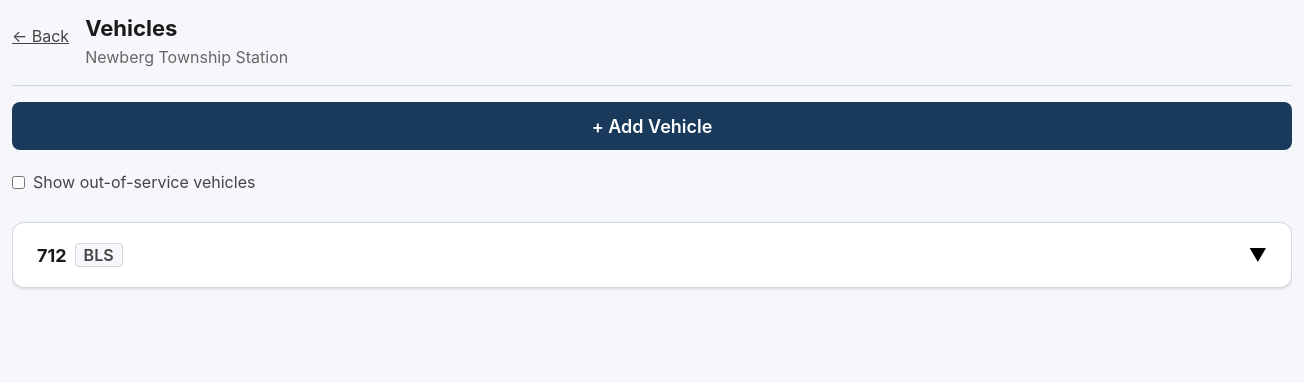
Test: VehiclesScreen — retired vehicles excluded (BUG-AD1) › still does not show a retired vehicle when "Show out-of-service vehicles" is checked
Expected: the text "540" is not shown
Click the checkbox labelled "Show out-of-service vehicles". click: click(18, 182)
box: [12,176,25,188]
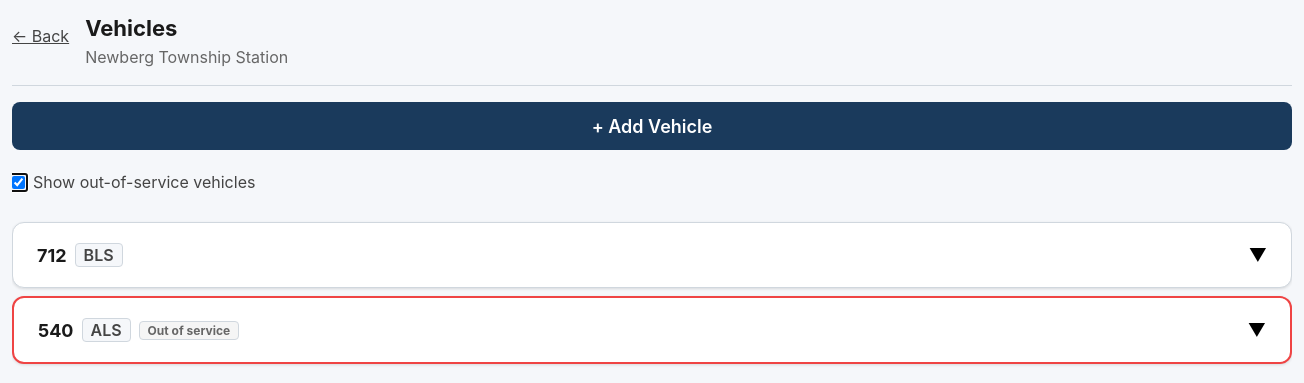
Result: the text "540" is shown at [38,320,74,340]
